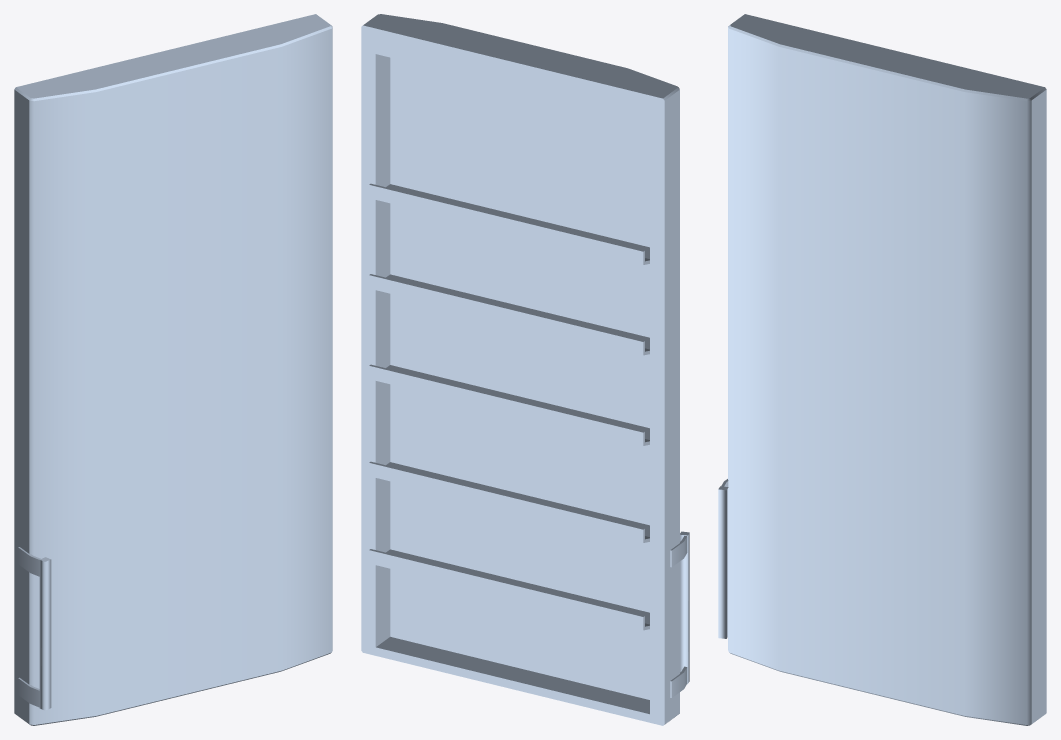
Rendered from RFAIPP_Fridge_Door_Up.FBX.
3 renders of one model, left to right at view 1: azimuth 30°, elevation 25°; view 2: azimuth 150°, elevation 25°; view 3: azimuth 330°, elevation 25°, orthographic.
Visible parts, largest first — view 1: RFAIPP_Fridge_Door_Up; view 2: RFAIPP_Fridge_Door_Up; view 3: RFAIPP_Fridge_Door_Up.
Part boxes in pixels (x1=…): RFAIPP_Fridge_Door_Up: x1=14, y1=14, x2=332, y2=725; RFAIPP_Fridge_Door_Up: x1=361, y1=14, x2=689, y2=725; RFAIPP_Fridge_Door_Up: x1=718, y1=14, x2=1046, y2=725.
Bounding box in the file's own units: 0.5428 × 1.07 × 0.1068.
